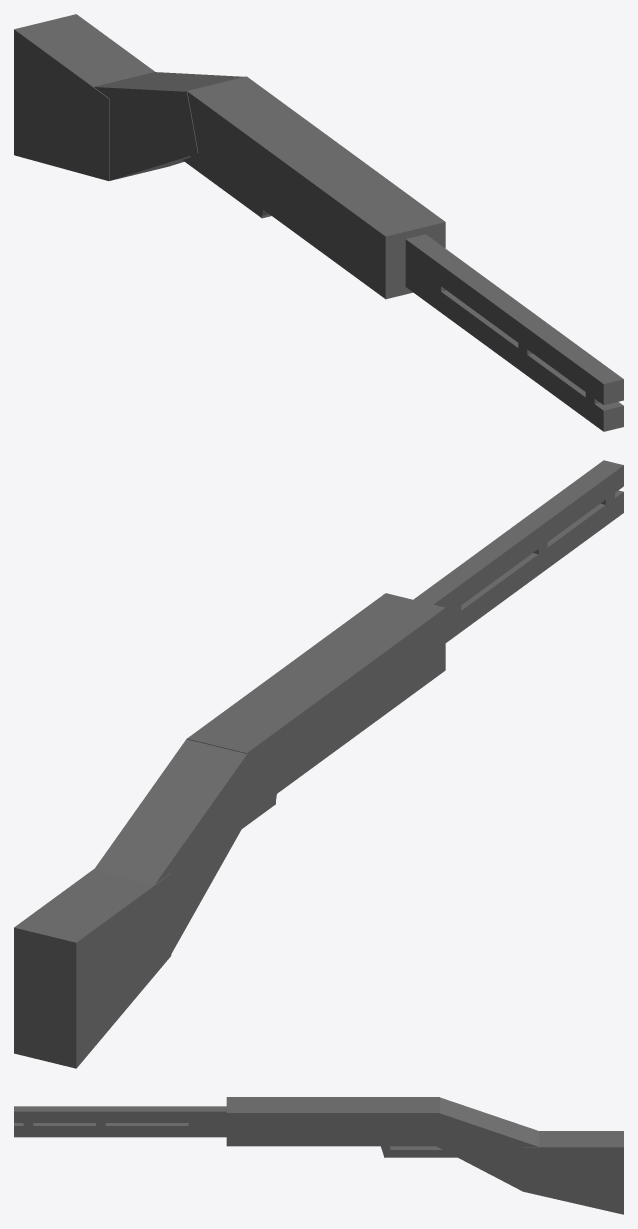
Rendered from Shotgun.obj.
3 views of the same model, one above another, from view 1: azimuth 30°, elevation 25°; view 2: azimuth 150°, elevation 25°; view 3: azimuth 270°, elevation 25° (orthographic). The views are drawn at different scales.
Parts seen in each view (by area): view 1: Cube.003; view 2: Cube.003; view 3: Cube.003.
Part boxes in pixels (<box>): Cube.003: <box>14,14,623,431</box>; Cube.003: <box>14,460,623,1068</box>; Cube.003: <box>14,1097,623,1214</box>.
Bounding box in the file's own units: 0.1368 × 0.3967 × 2.16.
Materials: 1 (1 with a texture image).
